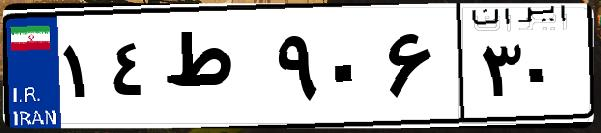0: (330, 28, 385, 110), (525, 38, 570, 115)
1: (57, 26, 110, 100)
3: (475, 38, 525, 113)
4: (110, 28, 158, 98)
6: (385, 28, 445, 110)
9: (270, 28, 330, 110)
ط: (158, 20, 270, 120)
